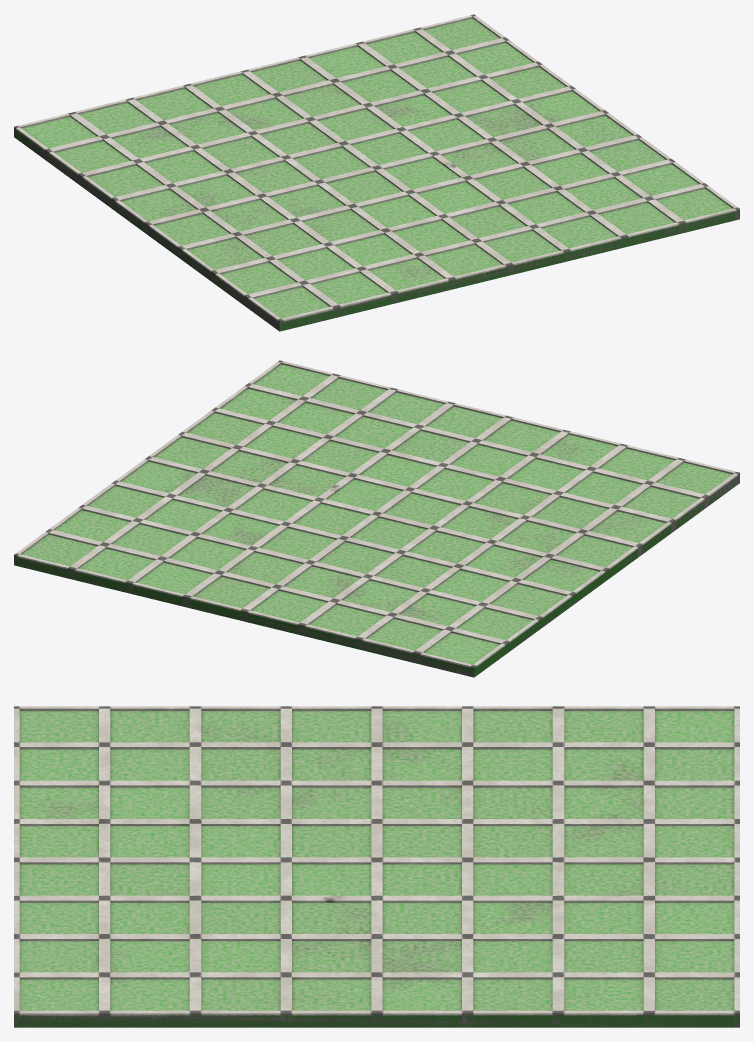
The model's file is grid_floor.fbx.
The picture shows the model from 3 angles, top to bottom: view 1: azimuth 30°, elevation 25°; view 2: azimuth 150°, elevation 25°; view 3: azimuth 270°, elevation 25°; orthographic projection. The views are drawn at different scales.
Visible parts, largest first — view 1: Body; view 2: Body; view 3: Body.
Boxes of the visible parts, x1,y1,x2,y2 form: Body: [14, 14, 739, 331]; Body: [14, 360, 739, 677]; Body: [14, 706, 739, 1027].
Bounding box in the file's own units: 32 × 0.7 × 32.
1 material, 1 textured.
